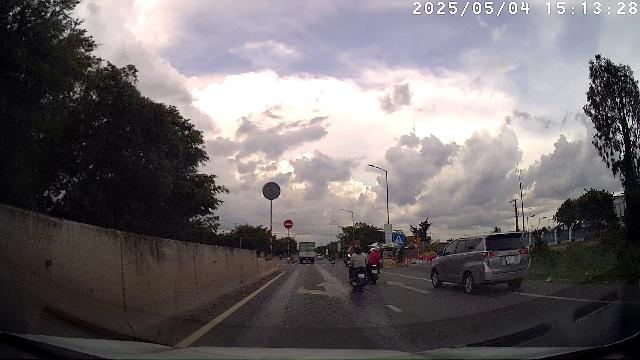102-cam-di-nguoc-chieu: (284, 219, 293, 230)
423a-duong-nguoi-di-bo-sang-ngang-1: (393, 233, 404, 245)
